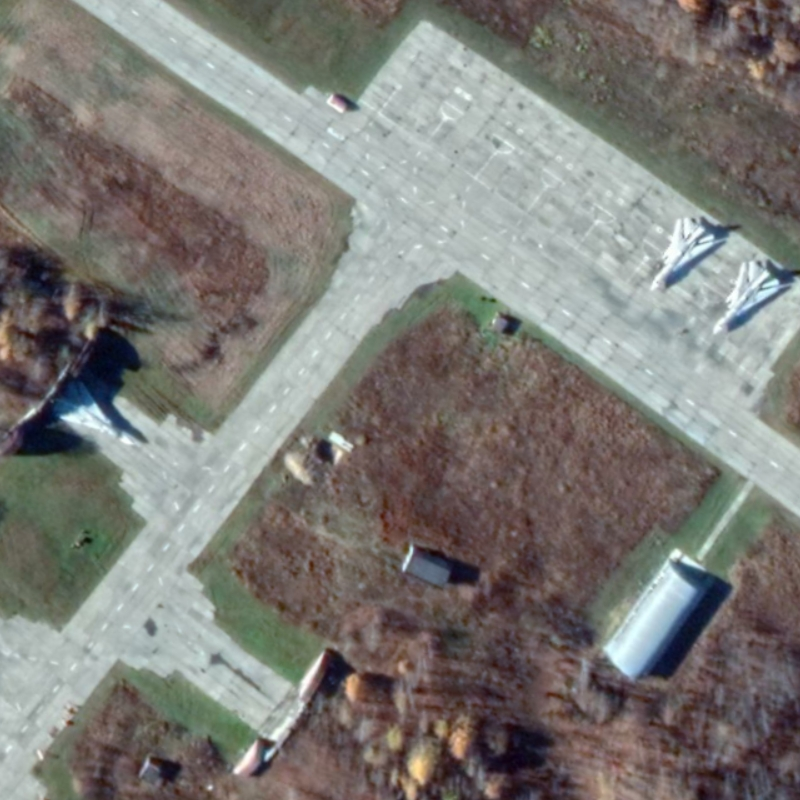A20: (51, 379, 137, 447), (646, 214, 716, 294), (711, 259, 781, 336)
